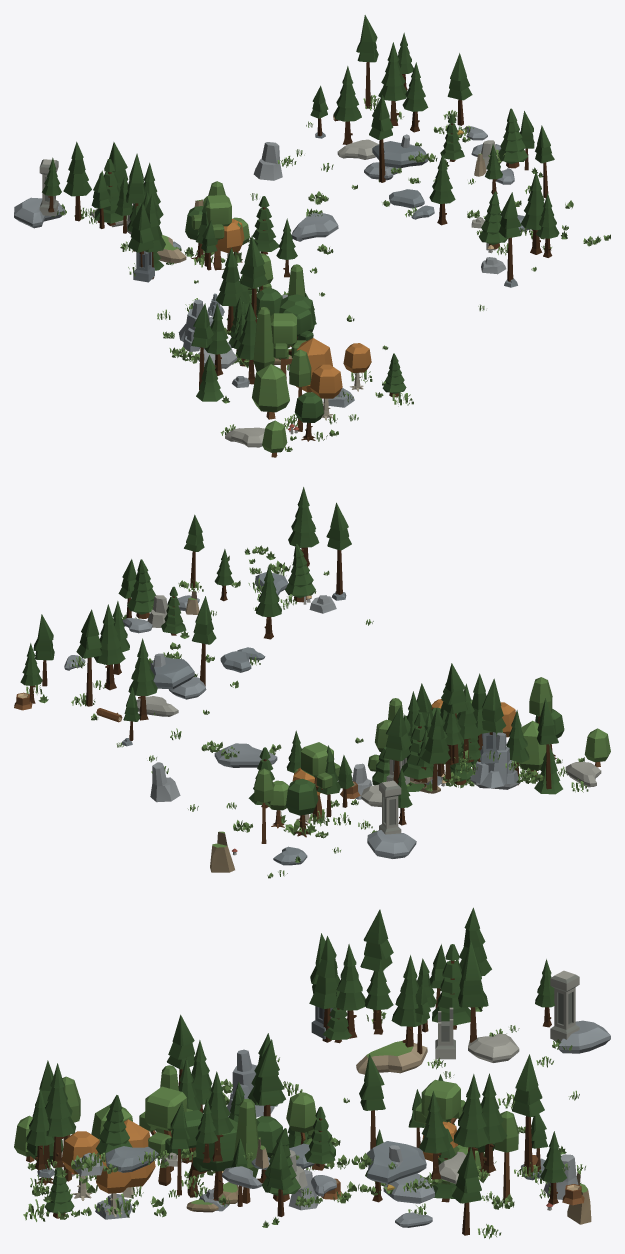
Rendered from cell_x0_z1_render.gltf.
3 renders of one model, top to bottom at view 1: azimuth 30°, elevation 25°; view 2: azimuth 150°, elevation 25°; view 3: azimuth 270°, elevation 25°, orthographic. The views are drawn at different scales.
Parts seen in each view (by area): view 1: cell_x0_z1; view 2: cell_x0_z1; view 3: cell_x0_z1.
Boxes of the visible parts, x1,y1,x2,y2 form: cell_x0_z1: (14,15,610,457); cell_x0_z1: (14,487,610,878); cell_x0_z1: (14,907,610,1238).
Size of the model in its own units: 42.71 by 22.6 by 42.98.
